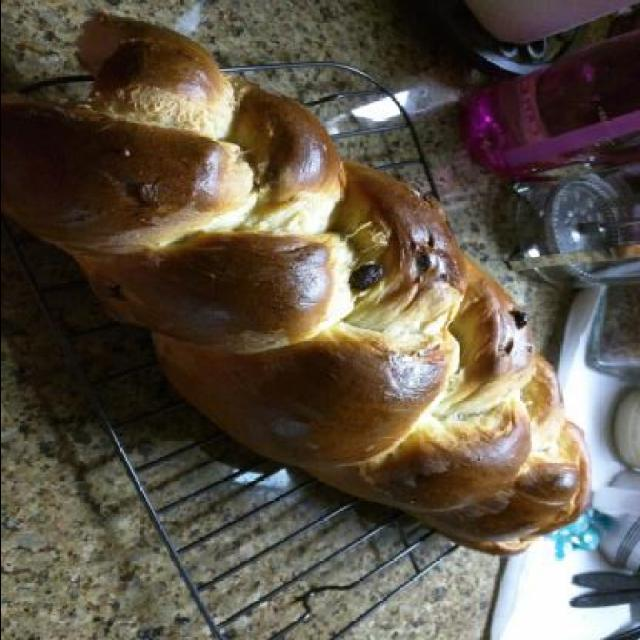Bread: (1, 12, 588, 560)
